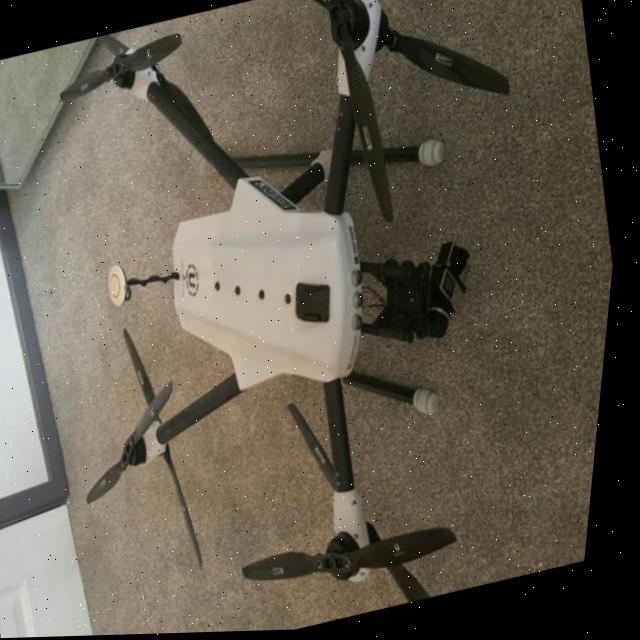drones: (0, 0, 628, 639)
